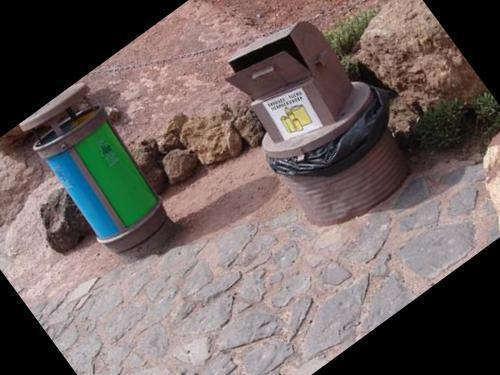Bote de Basura: (201, 0, 431, 242), (10, 67, 195, 268)
